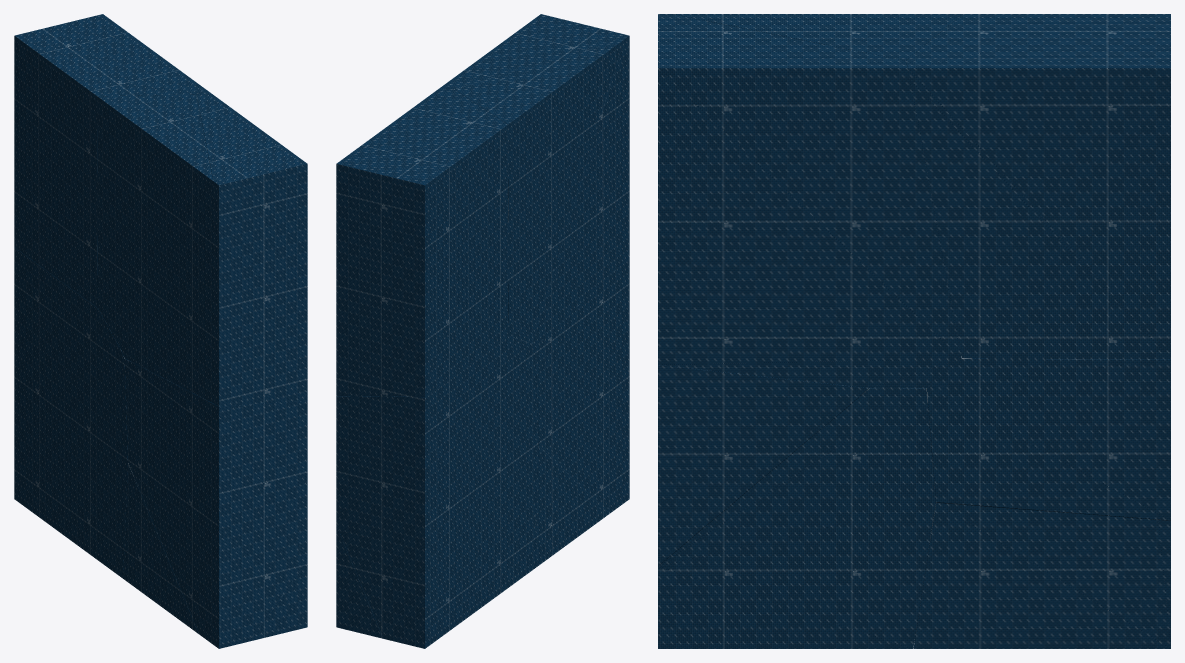
The model's file is 4mWallFracture.fbx.
The picture shows the model from 3 angles, left to right: view 1: azimuth 30°, elevation 25°; view 2: azimuth 150°, elevation 25°; view 3: azimuth 270°, elevation 25°; orthographic projection. The views are drawn at different scales.
Parts seen in each view (by area): view 1: 4mwall_cell.005, 4mwall_cell, 4mwall_cell.002, 4mwall_cell.006, 4mwall_cell.004, 4mwall_cell.001; view 2: 4mwall_cell.002, 4mwall_cell.006, 4mwall_cell.004, 4mwall_cell, 4mwall_cell.005, 4mwall_cell.001, 4mwall_cell.003; view 3: 4mwall_cell.005, 4mwall_cell.006, 4mwall_cell.001, 4mwall_cell.002, 4mwall_cell.003, 4mwall_cell, 4mwall_cell.004.
Part boxes in pixels (x1,y1,x2,y2): 4mwall_cell.005: (121,91,307,406); 4mwall_cell: (124,358,307,648); 4mwall_cell.002: (14,247,127,578); 4mwall_cell.006: (14,14,207,307); 4mwall_cell.004: (97,94,213,350); 4mwall_cell.001: (123,463,307,641); 4mwall_cell.002: (336,336,538,648); 4mwall_cell.006: (336,87,508,396); 4mwall_cell.004: (455,40,623,343); 4mwall_cell: (535,257,629,513); 4mwall_cell.005: (442,14,629,346); 4mwall_cell.001: (533,446,609,568); 4mwall_cell.003: (336,525,383,638); 4mwall_cell.005: (658,14,961,388); 4mwall_cell.006: (906,14,1170,358); 4mwall_cell.001: (658,388,935,648); 4mwall_cell.002: (926,356,1170,533); 4mwall_cell.003: (913,503,1170,648); 4mwall_cell: (658,365,869,565); 4mwall_cell.004: (673,14,962,60).
Bounding box in the file's own units: 100 × 500 × 400.
1 material, 1 textured.
